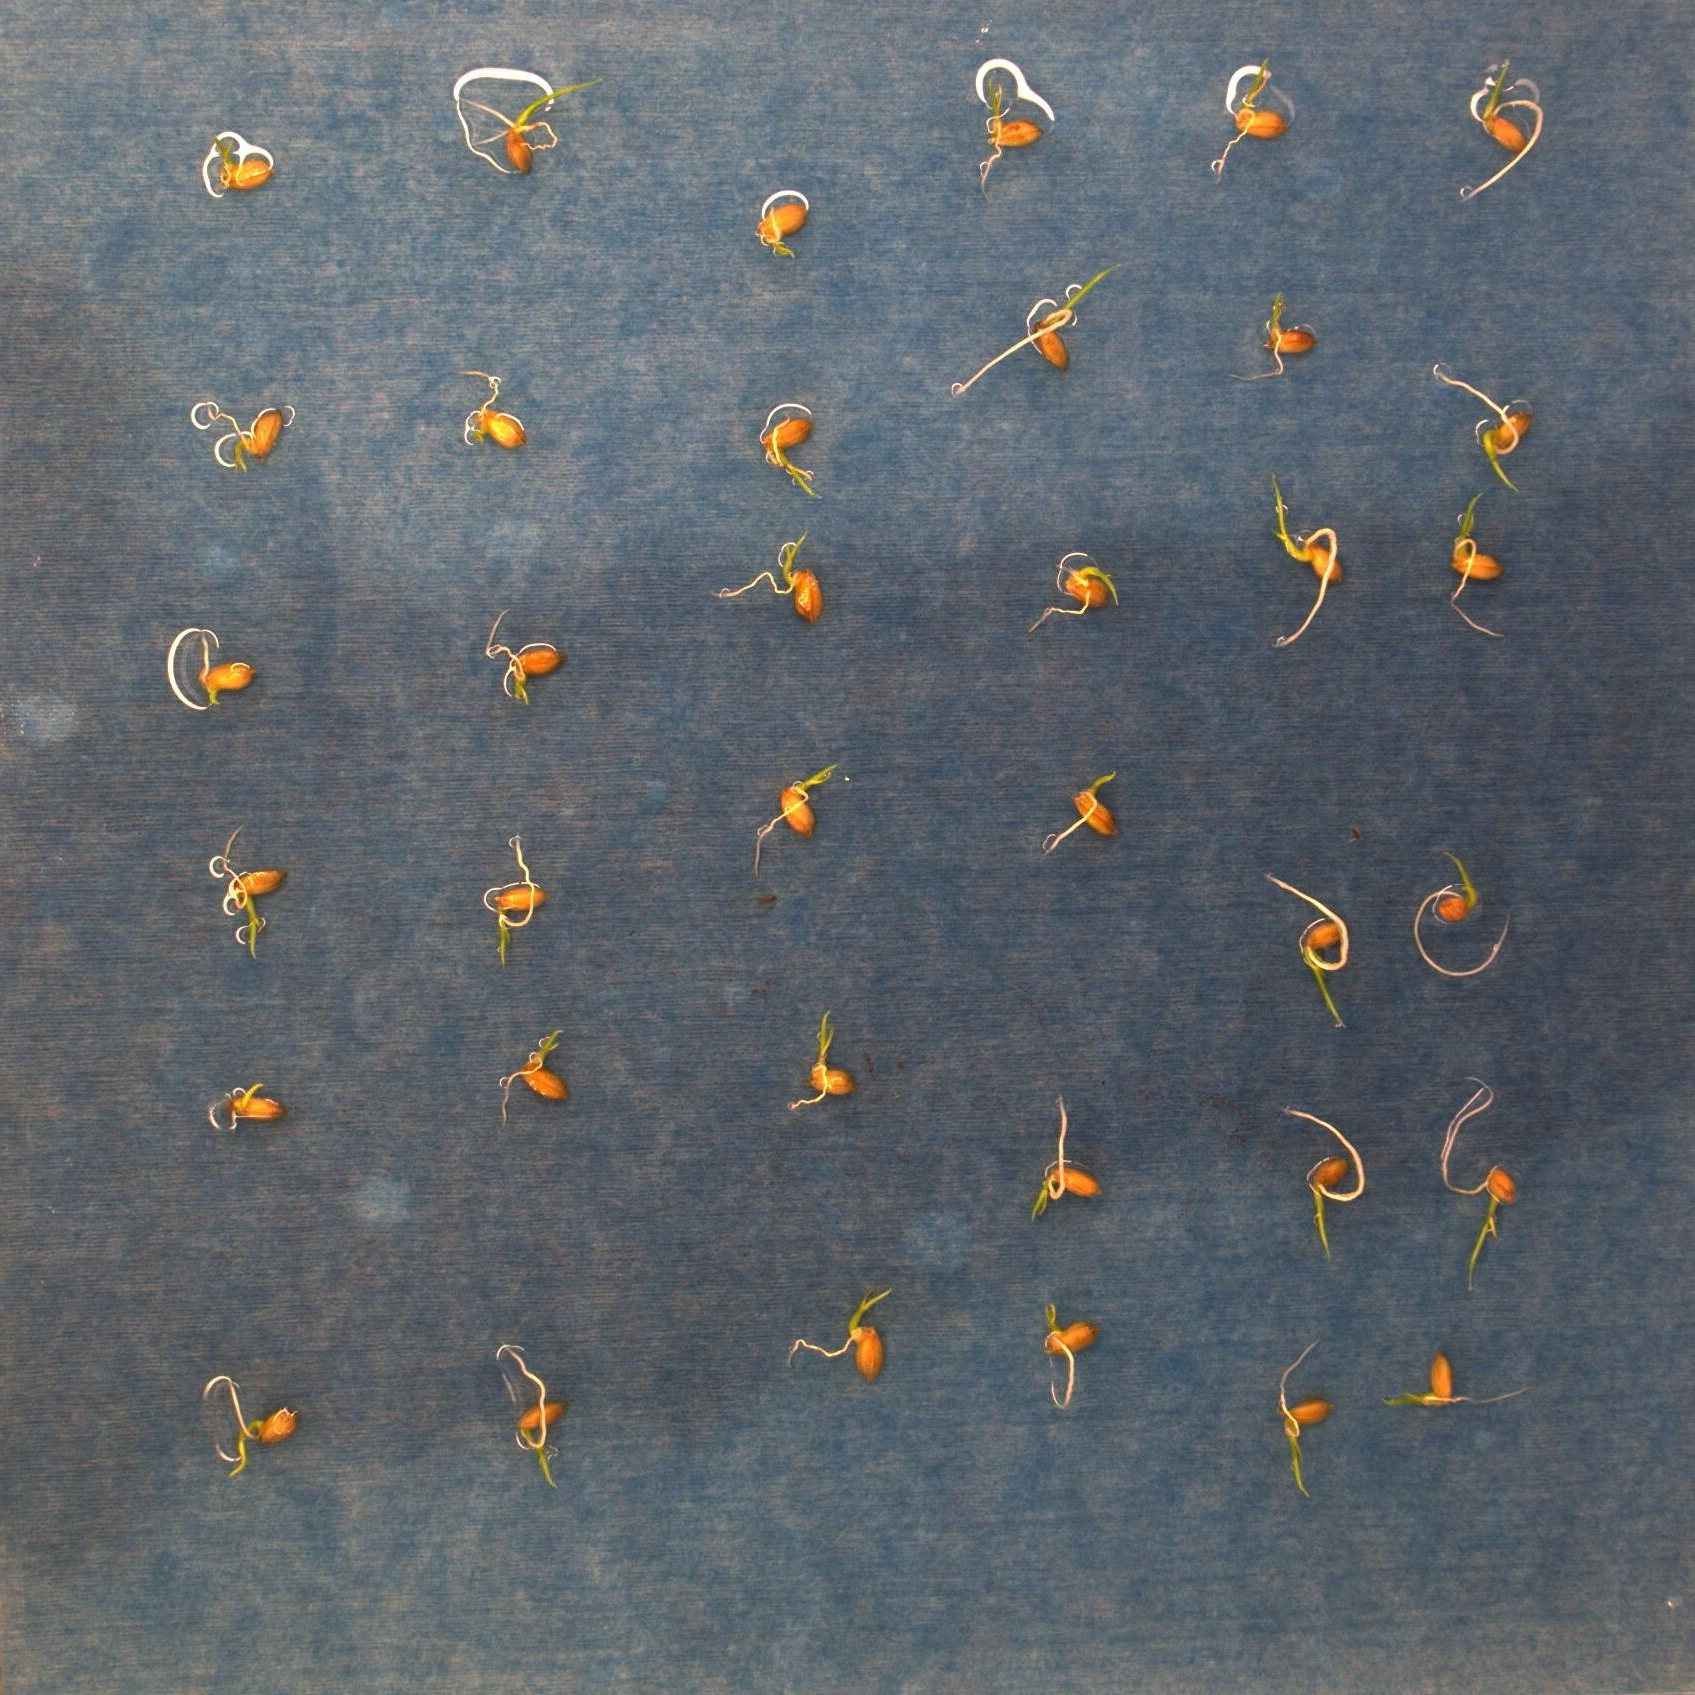not sprout: (439, 354, 543, 453), (477, 608, 581, 706), (1038, 1307, 1107, 1409), (744, 192, 813, 265), (186, 632, 269, 689), (213, 1080, 295, 1135)
sprout: (958, 261, 1113, 400), (1431, 1083, 1534, 1265), (1267, 470, 1358, 652), (1250, 1336, 1343, 1501), (456, 78, 605, 180), (1385, 1343, 1548, 1436), (1270, 879, 1364, 1034), (203, 818, 296, 961), (191, 1371, 315, 1478), (1430, 492, 1518, 641), (489, 1336, 582, 1468), (1437, 363, 1540, 483), (717, 529, 834, 632), (792, 1285, 900, 1394), (1212, 45, 1293, 185), (478, 832, 557, 970), (1282, 1105, 1360, 1243), (489, 1018, 587, 1127), (778, 1009, 868, 1125), (191, 397, 304, 489), (750, 761, 840, 875), (1231, 300, 1322, 408), (1450, 76, 1527, 200), (969, 78, 1052, 192), (750, 390, 835, 498), (1037, 1096, 1118, 1203), (1034, 532, 1114, 629), (1055, 765, 1132, 854), (199, 132, 289, 192), (1422, 851, 1487, 927)
